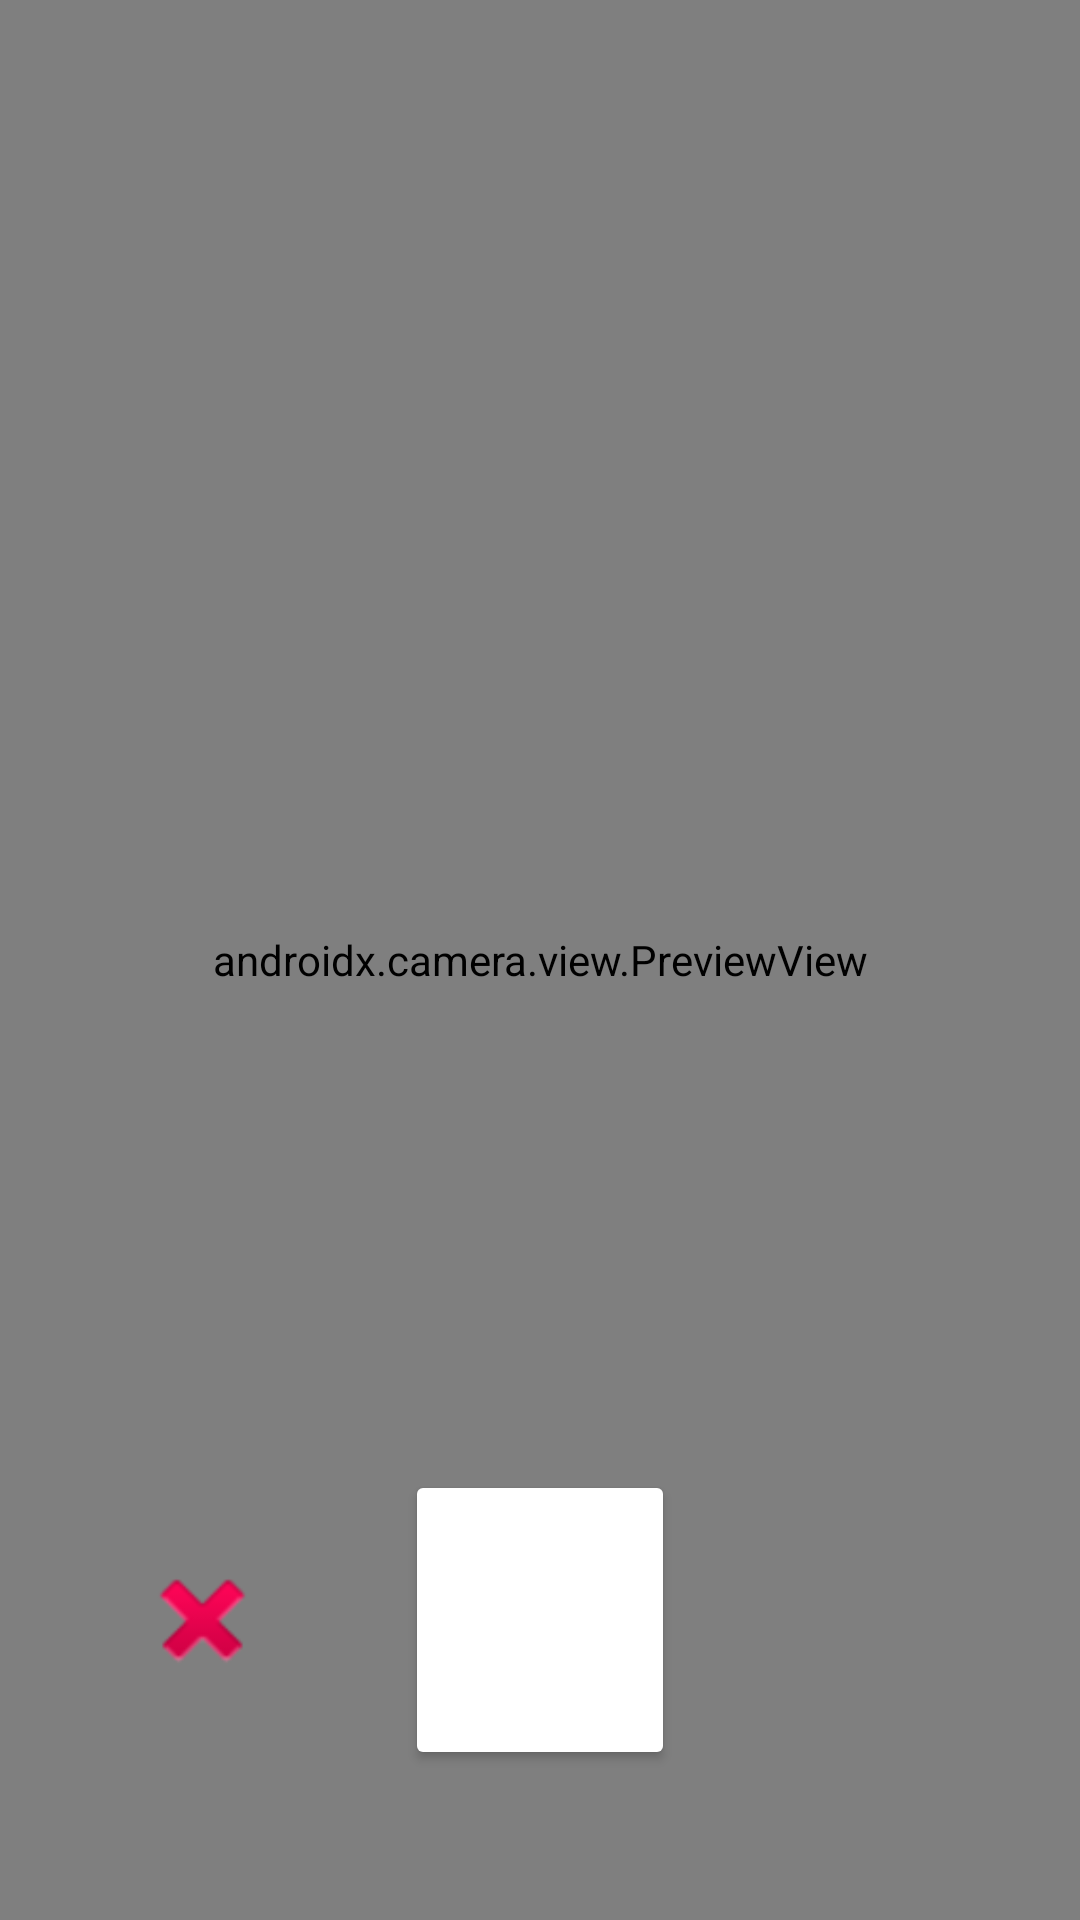

Locate icon controls on the screen. Image size 1080x1920, boxes as (x1, y1, x2, y2).
delete: (160, 1579, 245, 1662)
